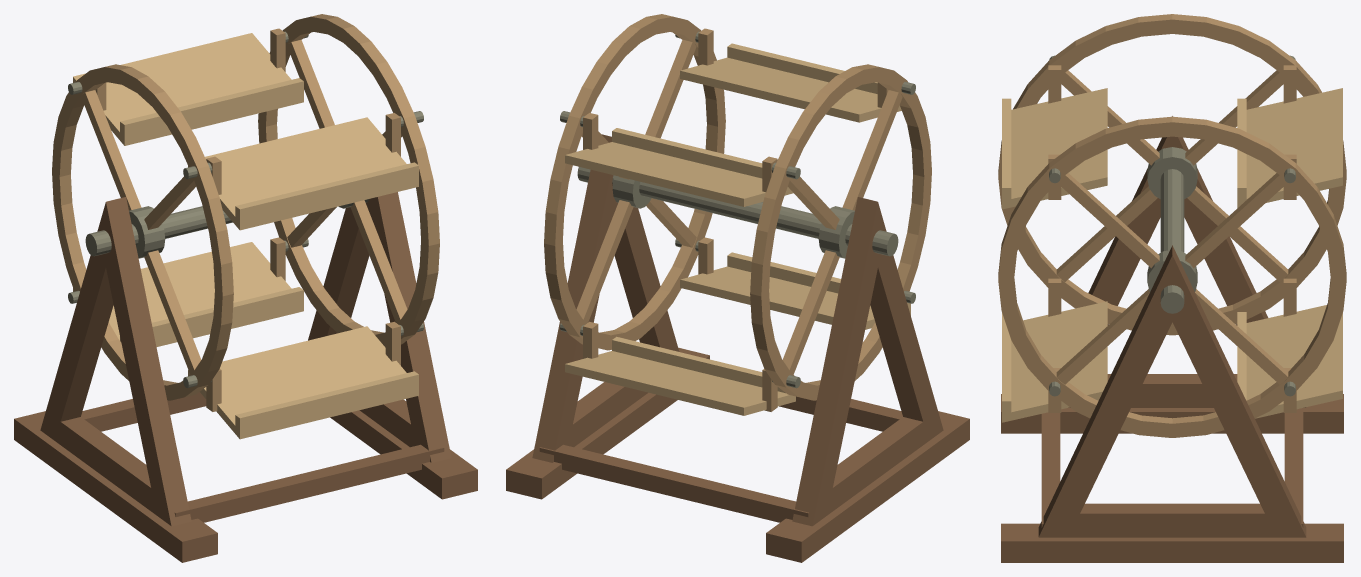
The picture shows the model from 3 angles, left to right: view 1: azimuth 30°, elevation 25°; view 2: azimuth 150°, elevation 25°; view 3: azimuth 270°, elevation 25°; orthographic projection. The views are drawn at different scales.
Visible parts, largest first — view 1: WholeOpenTriangularSideStandL, WholeSlopedReadingTray2, WholeSlopedReadingTray1, WholeOpenWheelRimL, WholeSlopedReadingTray0, WholeOpenTriangularSideStandR, WholeOpenWheelRimR, WholeSlopedReadingTray3, WholeLongStandRunnerL, WholeLowStandTie0, WholeLongStandRunnerR, WholeWheelSpokeL2 (+12 smaller); view 2: WholeOpenTriangularSideStandL, WholeOpenTriangularSideStandR, WholeOpenWheelRimL, WholeOpenWheelRimR, WholeSlopedReadingTray3, WholeSlopedReadingTray0, WholeSlopedReadingTray1, WholeLongStandRunnerL, WholeLowStandTie1, WholeSlopedReadingTray2, WholeLongStandRunnerR, WholeHorizontalMainAxle (+10 smaller); view 3: WholeOpenTriangularSideStandR, WholeOpenWheelRimR, WholeOpenWheelRimL, WholeLongStandRunnerR, WholeOpenTriangularSideStandL, WholeSlopedReadingTray1, WholeSlopedReadingTray0, WholeSlopedReadingTray2, WholeSlopedReadingTray3, WholeLongStandRunnerL, WholeHorizontalMainAxle, WholeWheelSpokeR0 (+15 smaller).
Boxes of the visible parts, x1,y1,x2,y2 form: WholeOpenTriangularSideStandL: [40, 197, 191, 526]; WholeSlopedReadingTray2: [188, 326, 418, 439]; WholeSlopedReadingTray1: [188, 117, 418, 230]; WholeOpenWheelRimL: [52, 64, 233, 400]; WholeSlopedReadingTray0: [73, 33, 303, 145]; WholeOpenTriangularSideStandR: [308, 192, 451, 462]; WholeOpenWheelRimR: [258, 14, 439, 347]; WholeSlopedReadingTray3: [73, 242, 303, 347]; WholeLongStandRunnerL: [14, 411, 217, 562]; WholeLowStandTie0: [174, 444, 444, 522]; WholeLongStandRunnerR: [330, 410, 477, 499]; WholeWheelSpokeL2: [144, 250, 201, 374]; WholeOpenTriangularSideStandL: [792, 197, 943, 526]; WholeOpenTriangularSideStandR: [532, 134, 679, 462]; WholeOpenWheelRimL: [750, 64, 931, 400]; WholeOpenWheelRimR: [544, 14, 725, 350]; WholeSlopedReadingTray3: [565, 336, 795, 415]; WholeSlopedReadingTray0: [565, 128, 793, 206]; WholeSlopedReadingTray1: [680, 43, 901, 122]; WholeLongStandRunnerL: [766, 411, 969, 562]; WholeLowStandTie1: [539, 444, 809, 522]; WholeSlopedReadingTray2: [680, 252, 910, 329]; WholeLongStandRunnerR: [506, 347, 709, 499]; WholeHorizontalMainAxle: [577, 167, 898, 256]; WholeOpenTriangularSideStandR: [1038, 245, 1306, 537]; WholeOpenWheelRimR: [998, 116, 1346, 437]; WholeOpenWheelRimL: [998, 14, 1346, 335]; WholeLongStandRunnerR: [1001, 523, 1343, 562]; WholeOpenTriangularSideStandL: [1068, 116, 1306, 407]; WholeSlopedReadingTray1: [1002, 88, 1107, 209]; WholeSlopedReadingTray0: [1237, 88, 1342, 207]; WholeSlopedReadingTray2: [1002, 301, 1107, 422]; WholeSlopedReadingTray3: [1237, 305, 1342, 418]; WholeLongStandRunnerL: [1001, 394, 1343, 433]; WholeHorizontalMainAxle: [1160, 169, 1184, 313]; WholeWheelSpokeR0: [1185, 173, 1287, 268].
Size of the model in its own units: 1.38 by 1.76 by 1.32.
